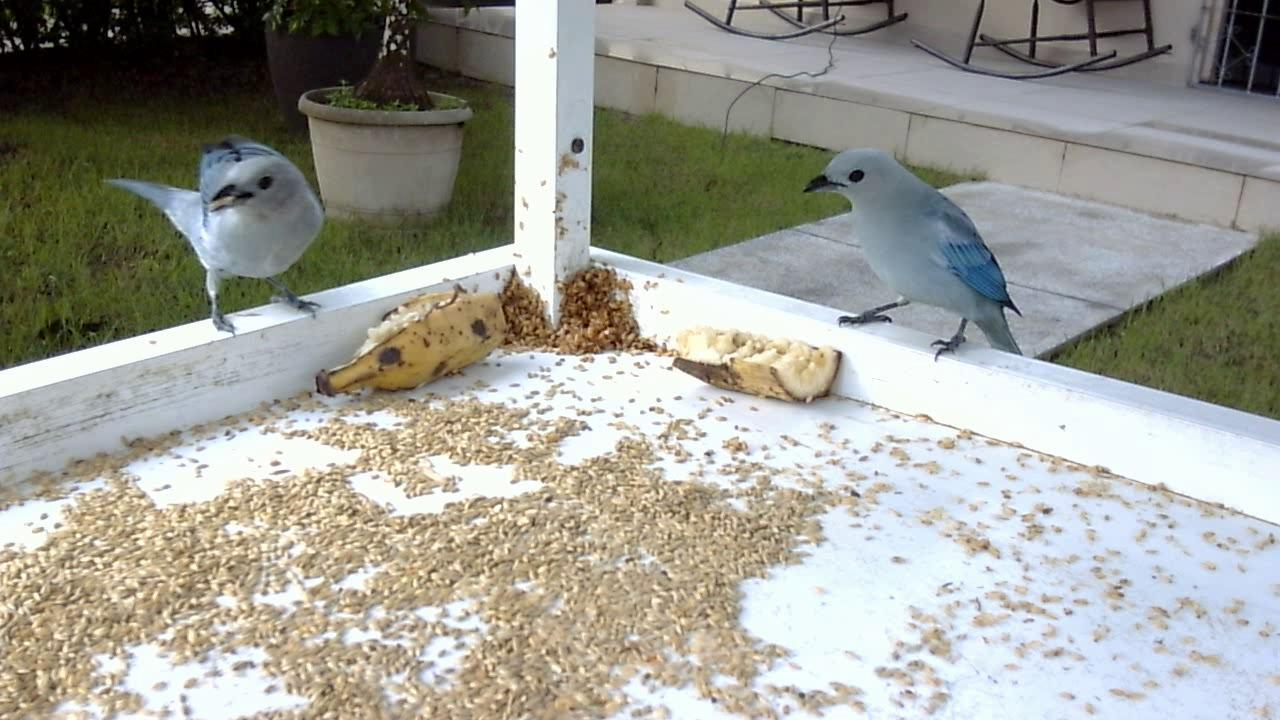sanhaco_da_amazonia: (797, 140, 1027, 371), (105, 129, 324, 343)
